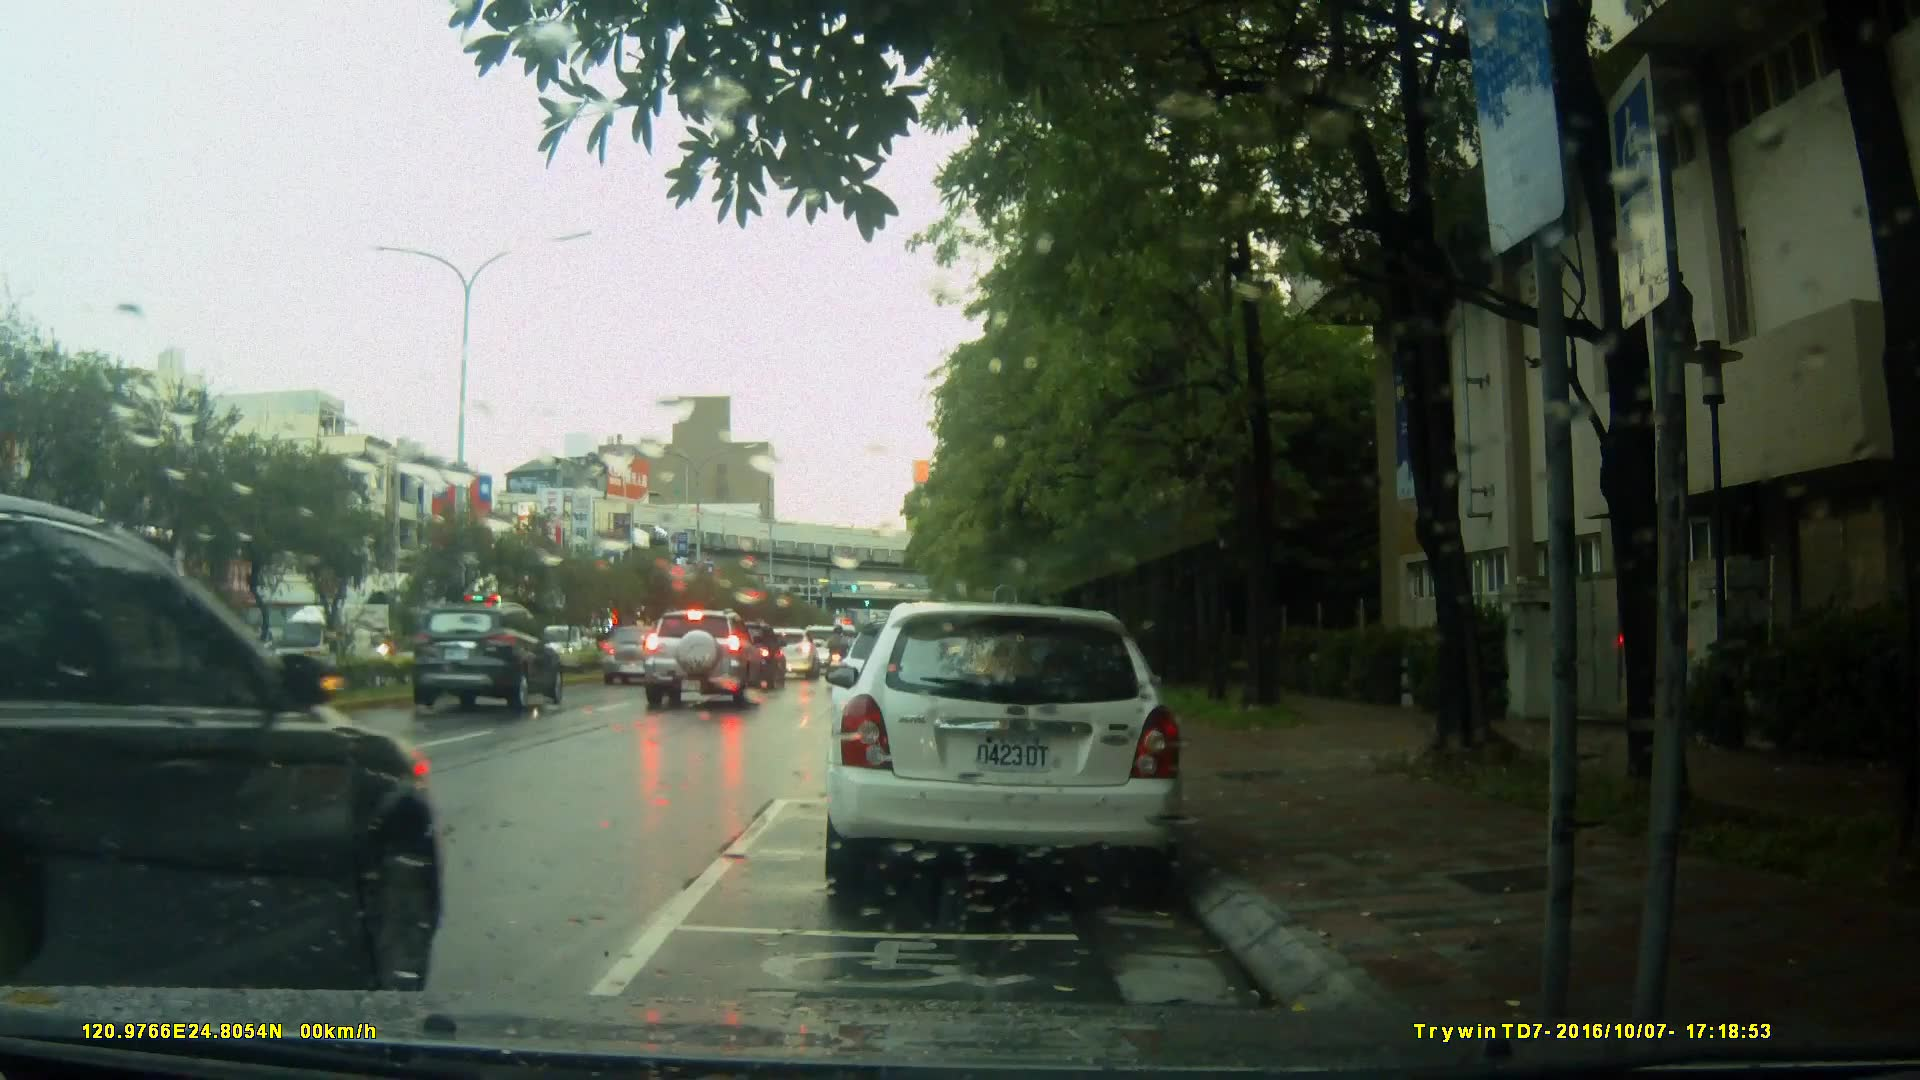rider: (822, 625, 856, 696)
vehicle: (1, 500, 447, 988), (820, 602, 1188, 898), (408, 600, 567, 711), (641, 608, 760, 712)
